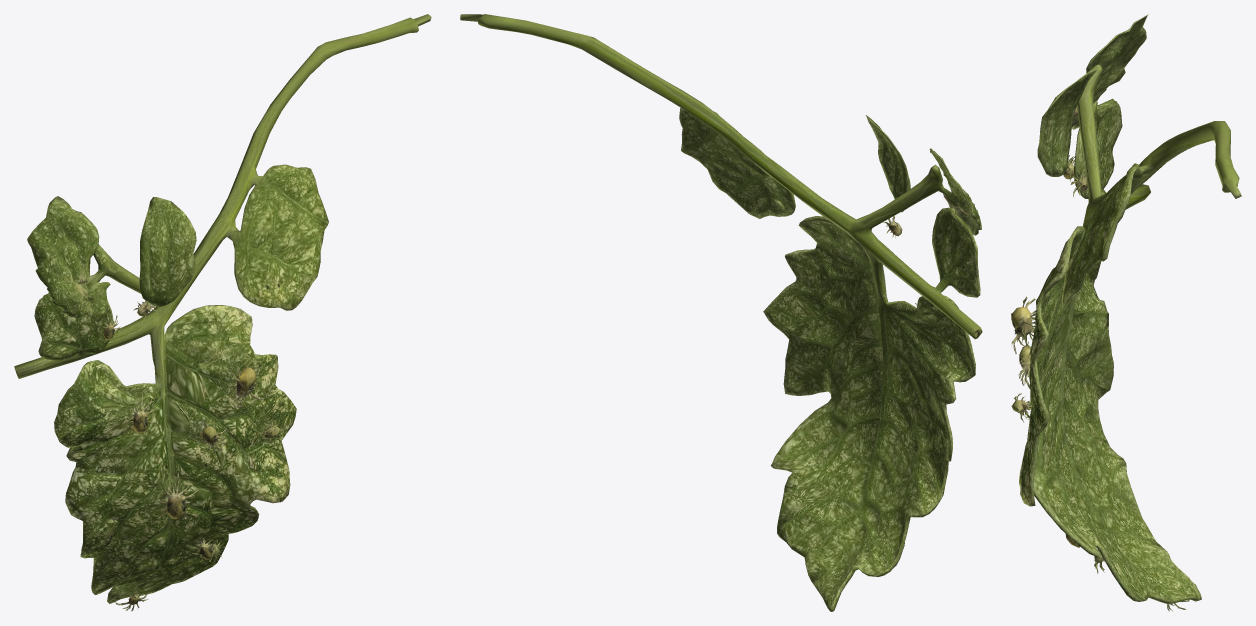
Rendered from tomato_spider_mites.glb.
The picture shows the model from 3 angles, left to right: view 1: azimuth 30°, elevation 25°; view 2: azimuth 150°, elevation 25°; view 3: azimuth 270°, elevation 25°; orthographic projection. The views are drawn at different scales.
Parts seen in each view (by area): view 1: tomato_spider_mites; view 2: tomato_spider_mites; view 3: tomato_spider_mites.
Boxes of the visible parts, x1,y1,x2,y2 form: tomato_spider_mites: (14, 14, 431, 611); tomato_spider_mites: (460, 14, 982, 611); tomato_spider_mites: (1011, 14, 1241, 611).
Size of the model in its own units: 0.9449 by 0.9984 by 0.3373.
Materials: 1 (1 with a texture image).
